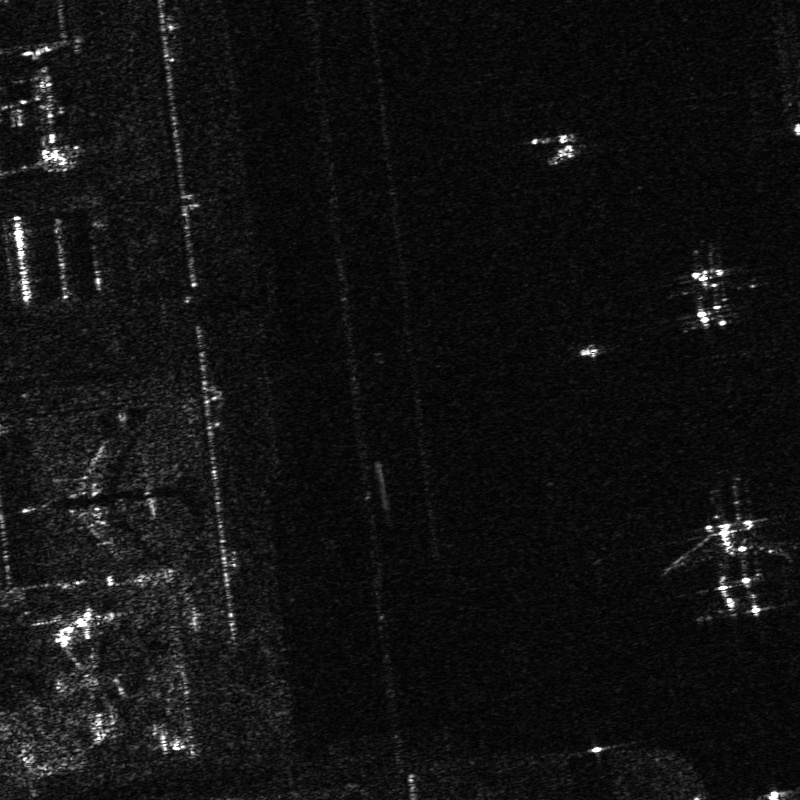Boeing787: (659, 236, 759, 334)
other: (7, 400, 206, 575), (661, 494, 799, 622)
